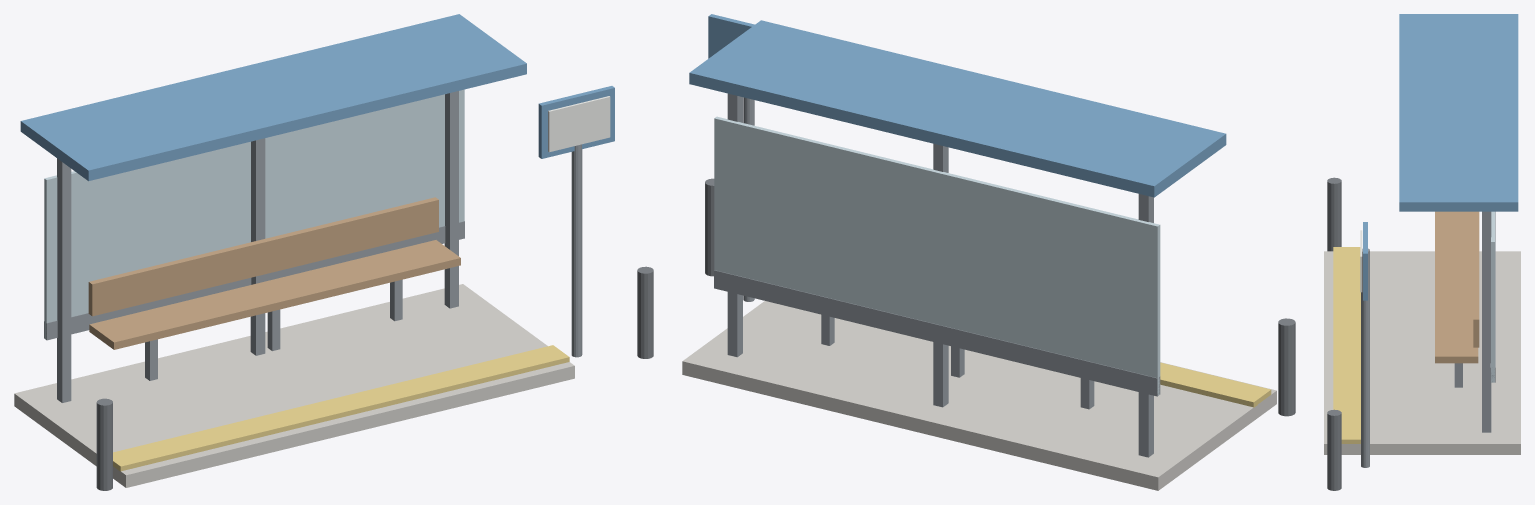
The model's file is webtoon_neighborhood_bus_stop.glb.
3 views of the same model, side by side, from view 1: azimuth 30°, elevation 25°; view 2: azimuth 150°, elevation 25°; view 3: azimuth 270°, elevation 25° (orthographic). The views are drawn at different scales.
Visible parts, largest first — view 1: platform slab, glass back panel, shelter roof, bench backrest, wood bench seat, tactile strip, shelter post (×3), glass lower rail, bollard (×2), route board face, sign pole, route sign; view 2: glass back panel, platform slab, shelter roof, glass lower rail, shelter post (×3), bollard (×2), tactile strip, route sign; view 3: platform slab, shelter roof, wood bench seat, tactile strip, bollard (×2), shelter post, sign pole, bench backrest, glass back panel, route sign.
Boxes of the visible parts, x1,y1,x2,y2 form: platform slab: (14,284,574,487); glass back panel: (44,89,464,339); shelter roof: (20,14,526,181); bench backrest: (88,197,438,316); wood bench seat: (89,240,460,349); tactile strip: (113,345,569,471); shelter post (×3): (57,91,458,402); glass lower rail: (44,221,464,340); bollard (×2): (96,266,653,490); route board face: (548,96,610,152); sign pole: (571,144,582,357); route sign: (538,86,614,158); glass back panel: (714,116,1160,395); platform slab: (682,301,1276,490); shelter roof: (689,20,1226,197); glass lower rail: (714,270,1160,396); shelter post (×3): (727,93,1153,457); bollard (×2): (705,178,1295,416); tactile strip: (1160,362,1271,407); route sign: (708,14,754,58); platform slab: (1324,251,1520,454); shelter roof: (1399,14,1518,211); wood bench seat: (1435,211,1478,363); tactile strip: (1333,247,1360,443); bollard (×2): (1327,177,1341,490); shelter post: (1482,211,1491,432); sign pole: (1361,248,1369,467); bench backrest: (1473,211,1479,347); glass back panel: (1491,211,1494,382); route sign: (1363,222,1367,300).
Size of the model in its own units: 5.44 by 2.67 by 1.9.
